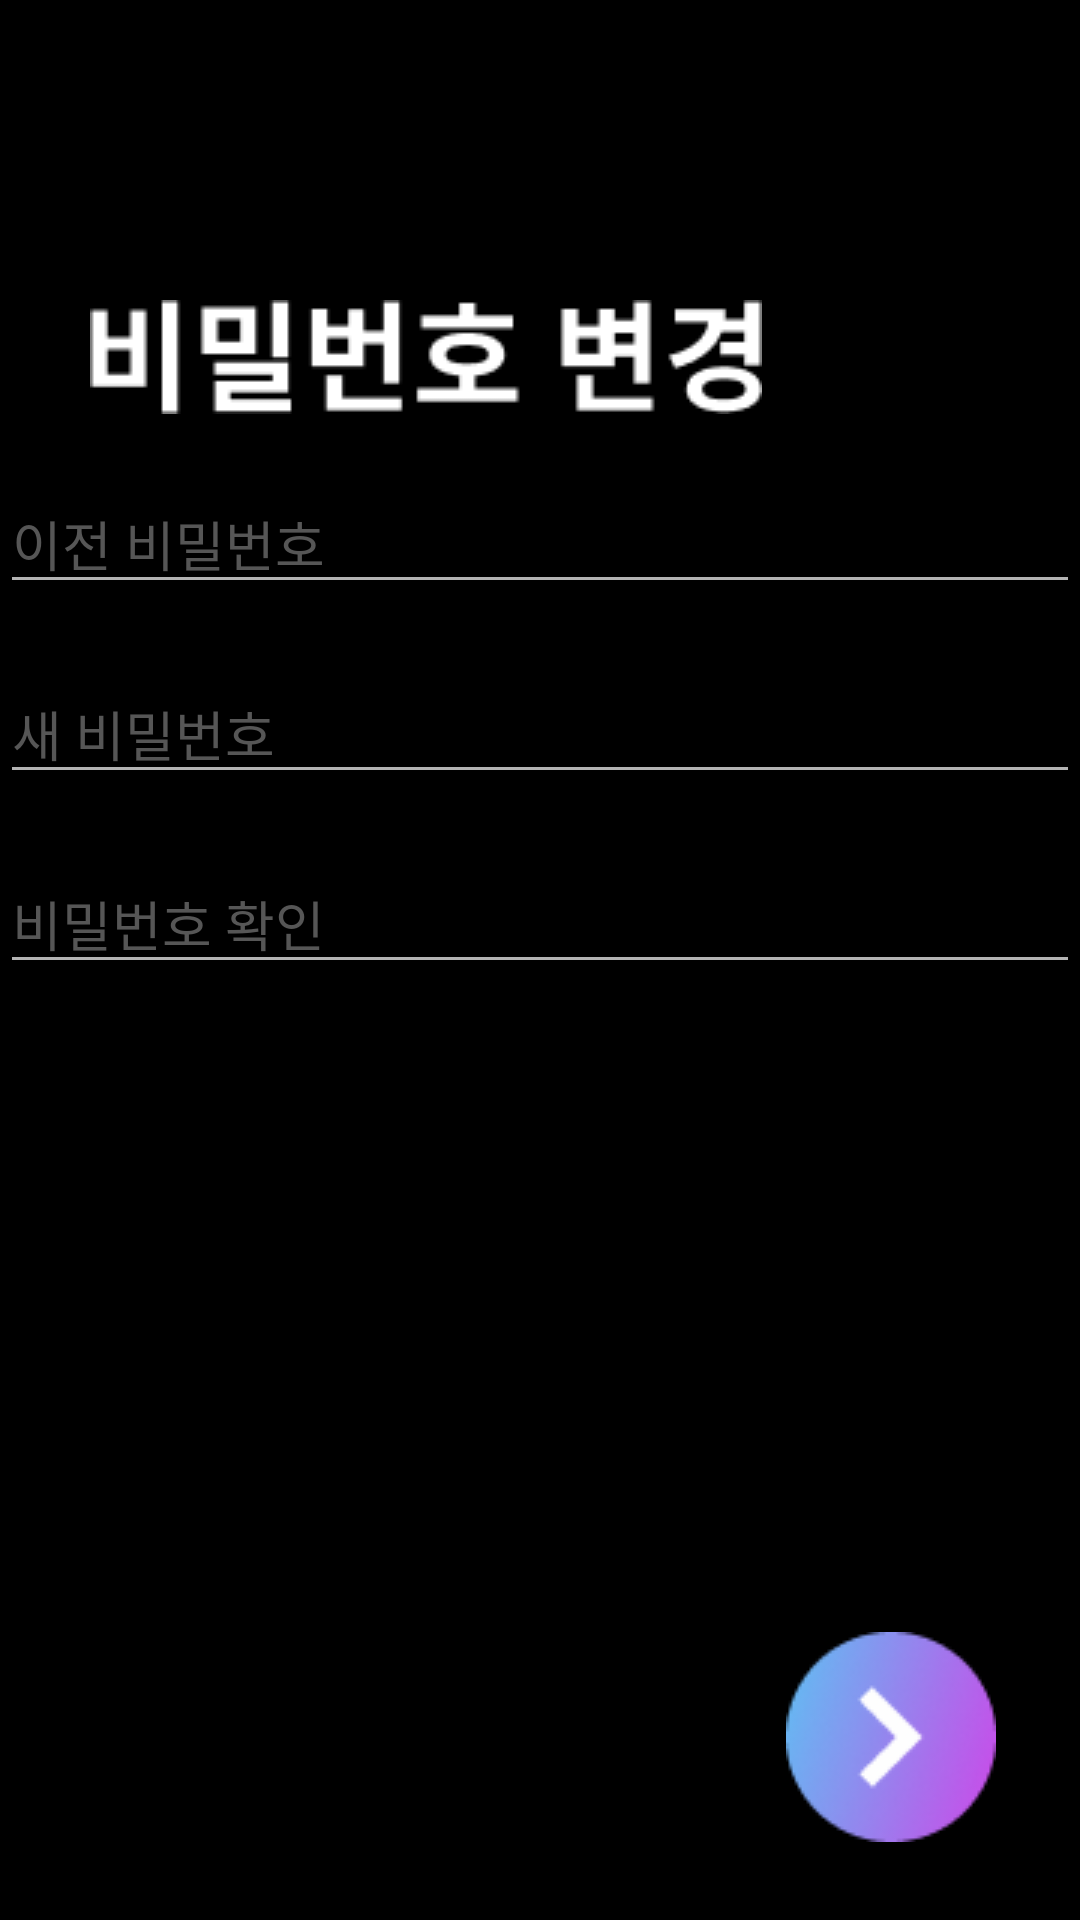

Locate icon controls on the screen. Image size 1080px×1920px, boxes as (x1, y1, x2, y2).
forward: (786, 1632, 996, 1842)
